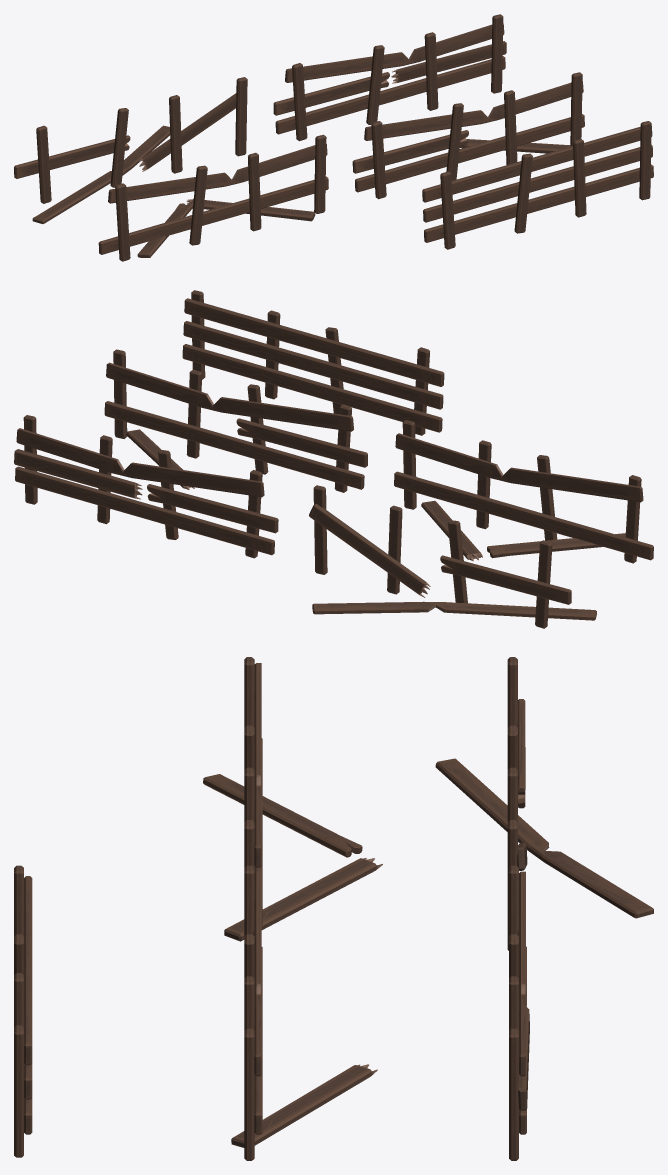
File: poster.fbx
The picture shows the model from 3 angles, top to bottom: view 1: azimuth 30°, elevation 25°; view 2: azimuth 150°, elevation 25°; view 3: azimuth 270°, elevation 25°; orthographic projection. The views are drawn at different scales.
Parts seen in each view (by area): view 1: pCube18, pCube23, group2_pCube8, group3_pCube9, pCube32, pCube29; view 2: pCube18, pCube23, group2_pCube8, group3_pCube9, pCube32, pCube29; view 3: group3_pCube9, group2_pCube8, pCube32, pCube18, pCube23.
Part boxes in pixels (x1,y1,x2,y2): pCube18: (422, 121, 653, 249); pCube23: (273, 14, 506, 141); group2_pCube8: (352, 72, 584, 199); group3_pCube9: (98, 134, 328, 261); pCube32: (14, 93, 236, 223); pCube29: (235, 77, 247, 156); pCube18: (182, 290, 444, 435); pCube23: (14, 415, 278, 558); group2_pCube8: (104, 349, 367, 492); group3_pCube9: (394, 420, 653, 563); pCube32: (309, 504, 596, 628); pCube29: (313, 485, 327, 574); group3_pCube9: (203, 657, 382, 941); group2_pCube8: (231, 865, 377, 1160); pCube32: (435, 657, 653, 918); pCube18: (14, 865, 32, 1157); pCube23: (509, 865, 529, 1160).
Bounding box in the file's own units: 40.59 × 6.3 × 27.3.
